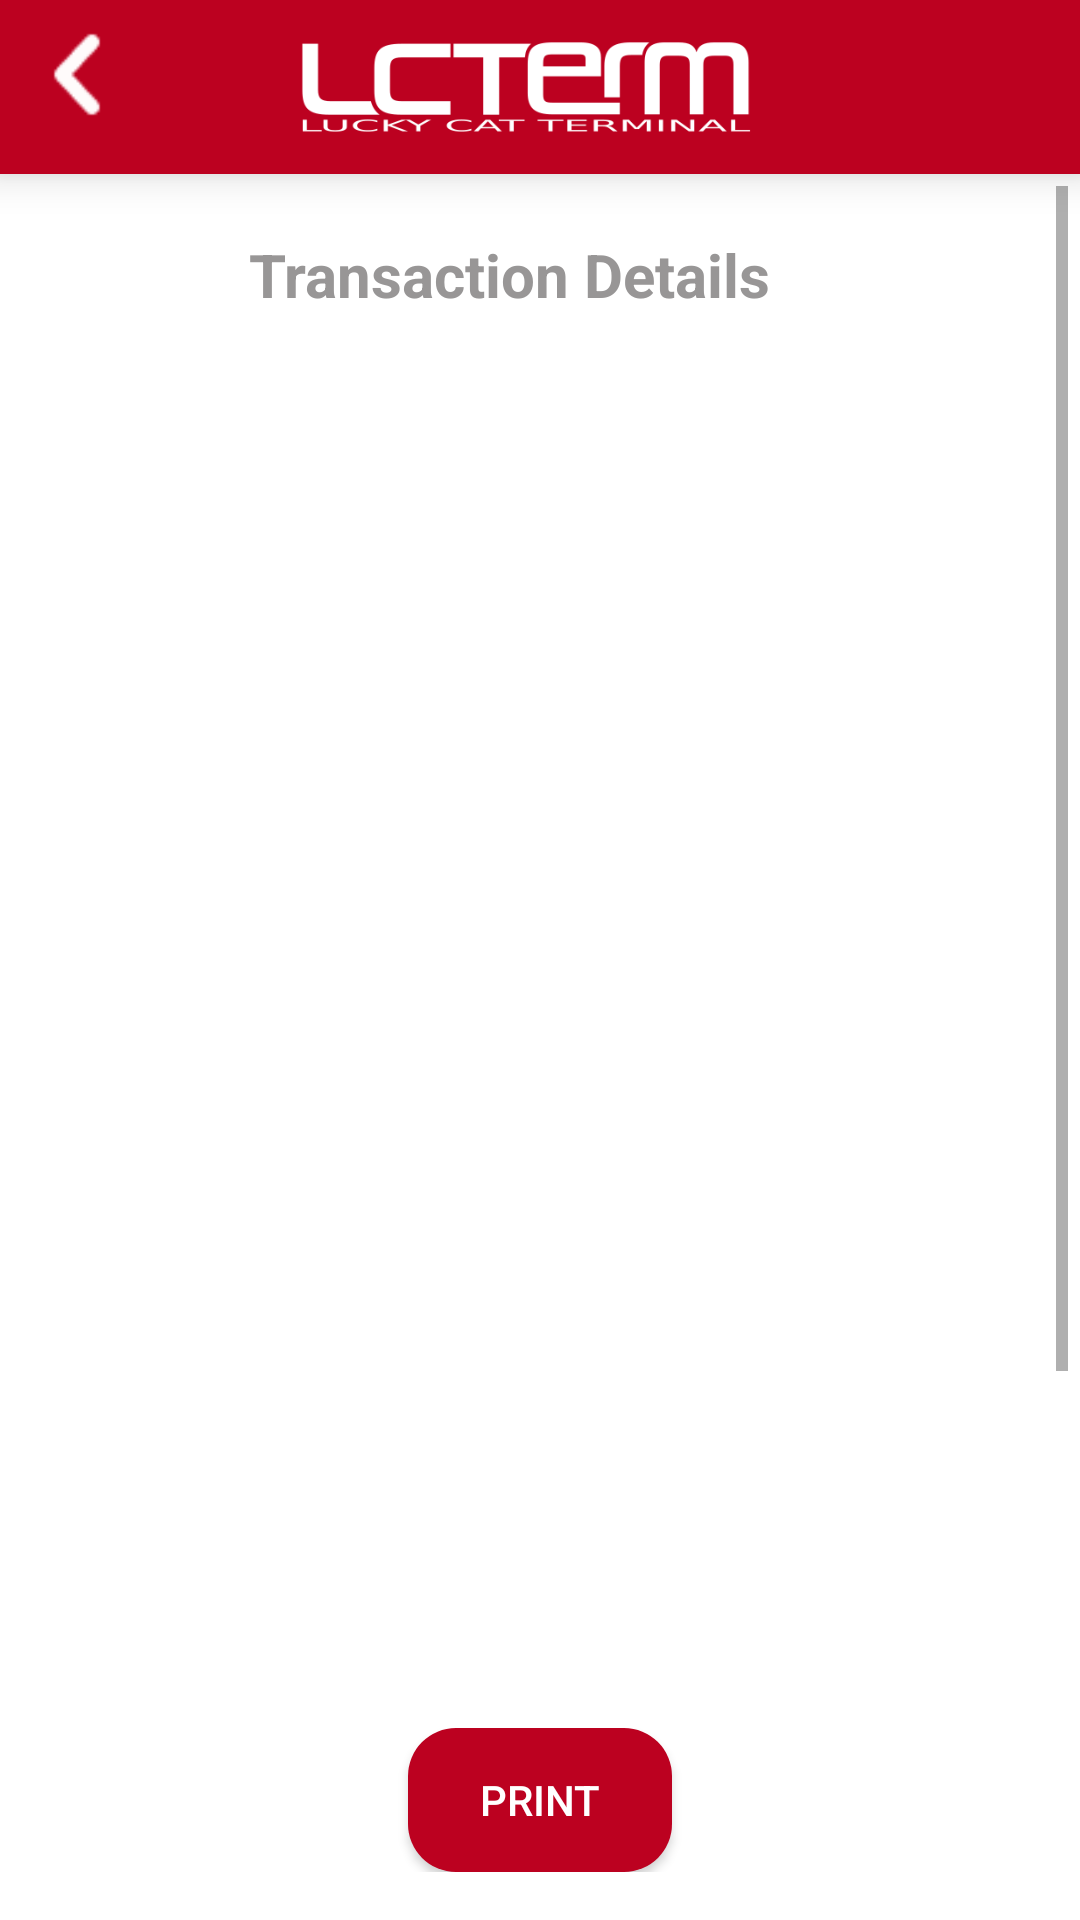

Named icons in this screenshot (1080×1920) and their bounding boxes, box=[x1, y1, x2, y2]:
Back: box=[54, 34, 100, 115]
